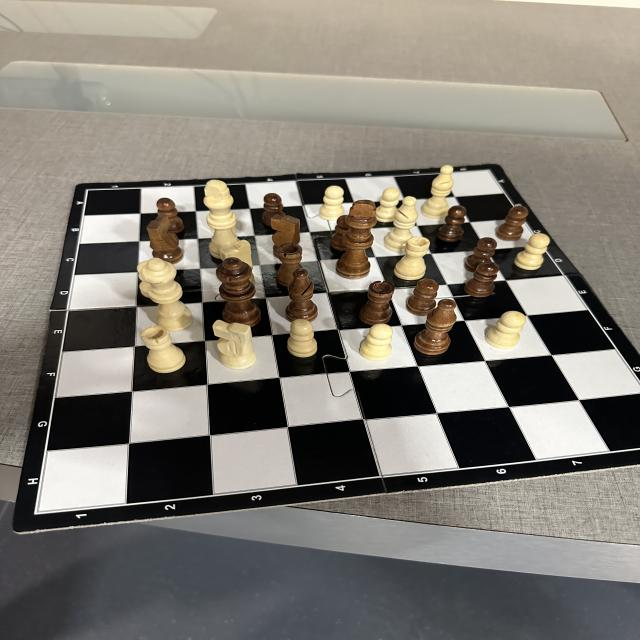Black-Bishop: (414, 298, 457, 356), (284, 268, 318, 323)
Black-King: (335, 200, 377, 280)
Black-Knight: (146, 215, 184, 265), (270, 214, 300, 258)
Black-Pawn: (464, 262, 499, 298), (406, 279, 439, 316), (464, 237, 497, 273), (496, 206, 528, 241), (437, 205, 467, 242), (156, 197, 185, 234), (262, 192, 284, 226), (329, 214, 348, 252)
Black-Queen: (215, 258, 262, 328)
Black-Rook: (358, 280, 396, 326), (276, 243, 302, 287)
White-Bishop: (384, 196, 418, 253), (420, 165, 454, 219)
White-King: (203, 180, 237, 260)
White-Knight: (212, 320, 258, 370), (220, 239, 254, 261)
White-Pawn: (485, 311, 526, 350), (514, 233, 550, 271), (359, 324, 394, 361), (287, 319, 318, 358), (375, 187, 400, 223), (319, 185, 344, 221), (137, 260, 148, 298)
White-Queen: (140, 258, 193, 332)
White-Rook: (140, 325, 187, 373), (394, 236, 430, 281)
